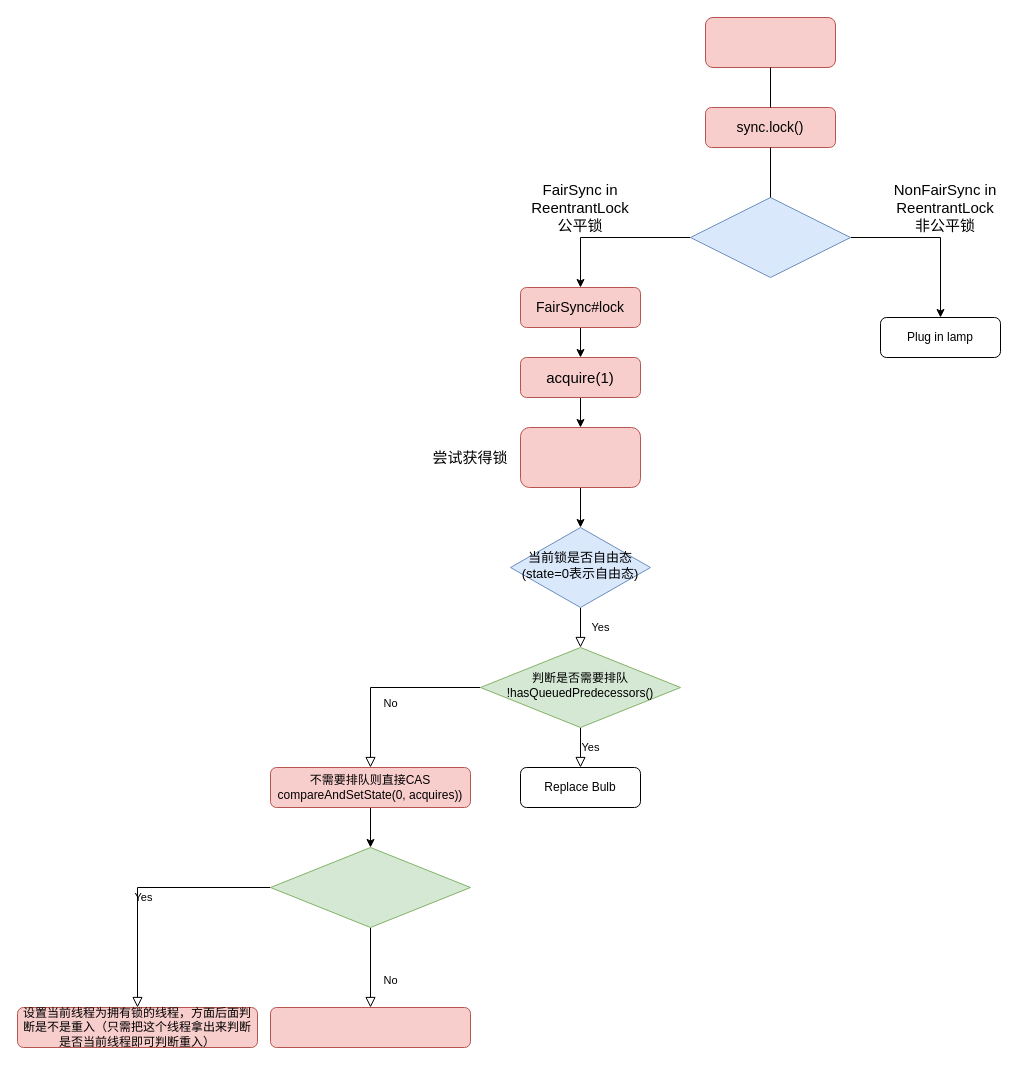
This 1018x1066 diagram has some shape labels left out. The shapes that lost their labels are listed below. From the top down, each one's centre as x and y in pixels, then its label:
point (770, 42): locak(): ReentrantLock加锁方法
point (770, 237): abstract void lock();
point (580, 457): tryAcquire(1)
point (370, 887): CAS执行成功, 获取到锁
